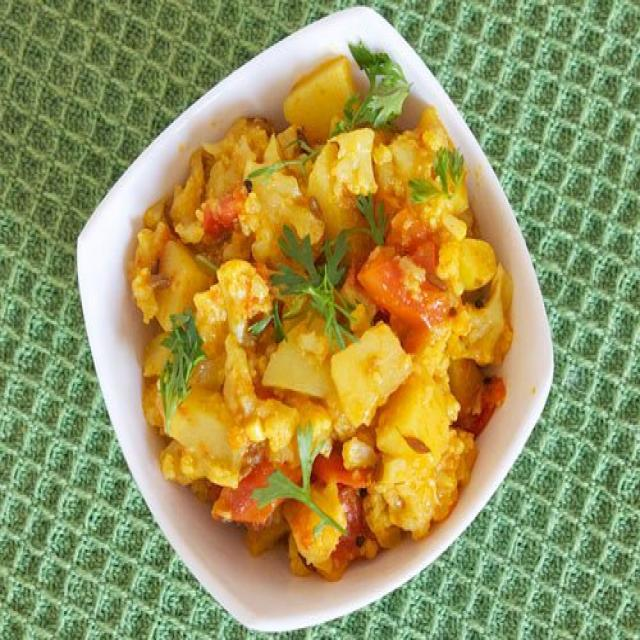Aloo Gobi: (153, 50, 508, 576)
